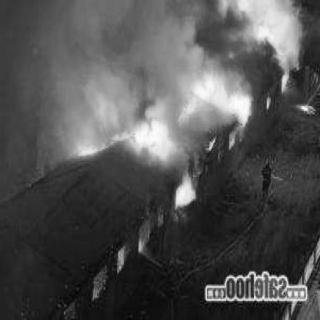Fire: (266, 68, 296, 114)
Smoke: (2, 1, 298, 87)
